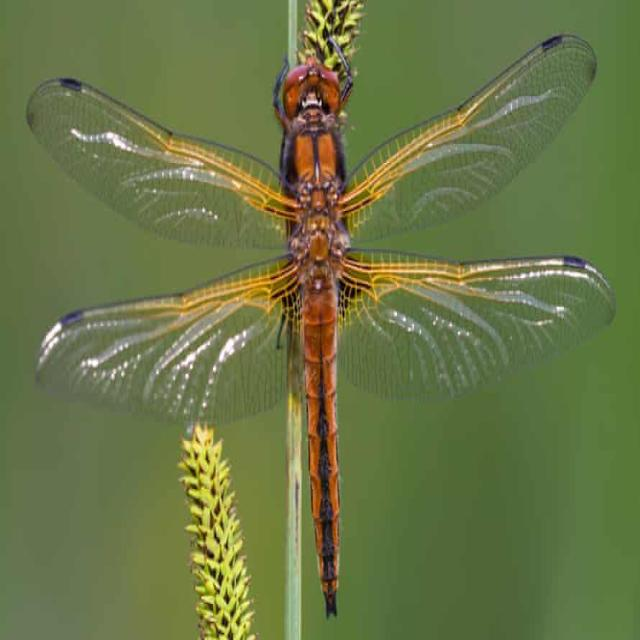dragonfly: (26, 35, 615, 609)
